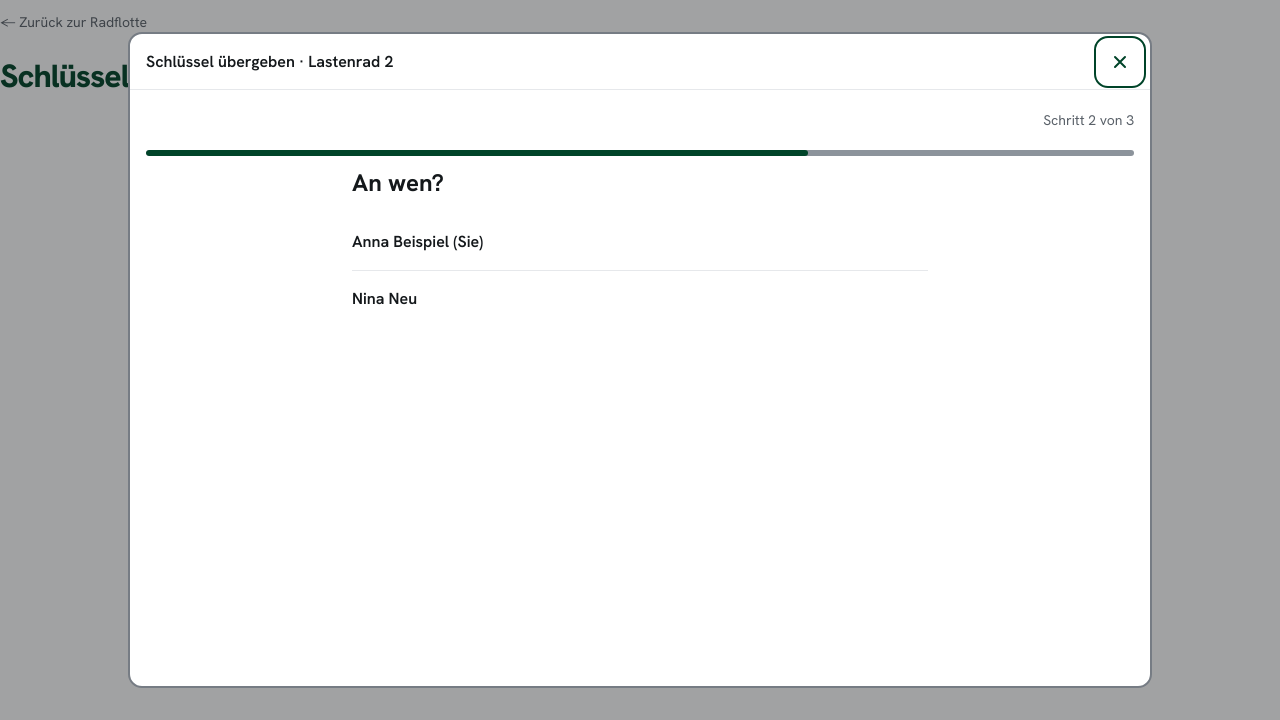
Test case: Schlüssel übergeben › sagt einen Fehler des Servers im Fuß und bleibt im Abschluss
Click the button "Nina Neu" at x=385, y=298, box x1=336 y1=271 x2=944 y2=327
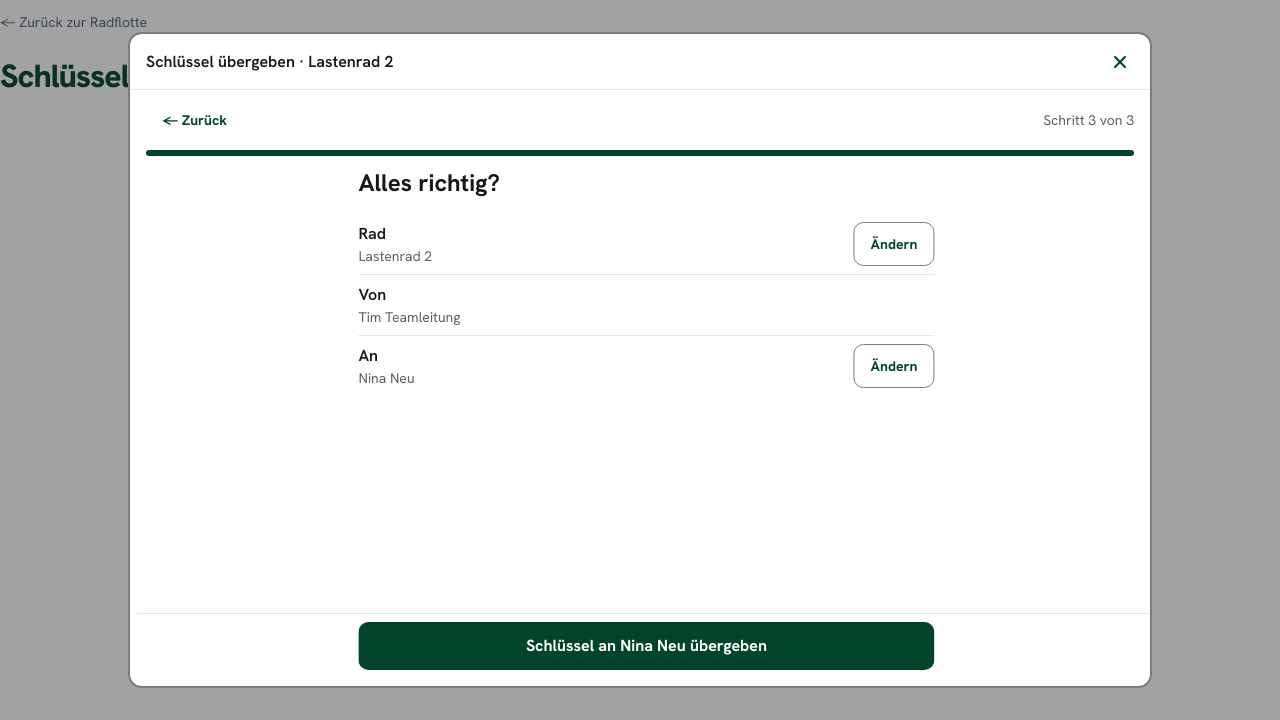
Click the button "Schlüssel an Nina Neu übergeben" at x=641, y=646, box x1=353 y1=622 x2=929 y2=670
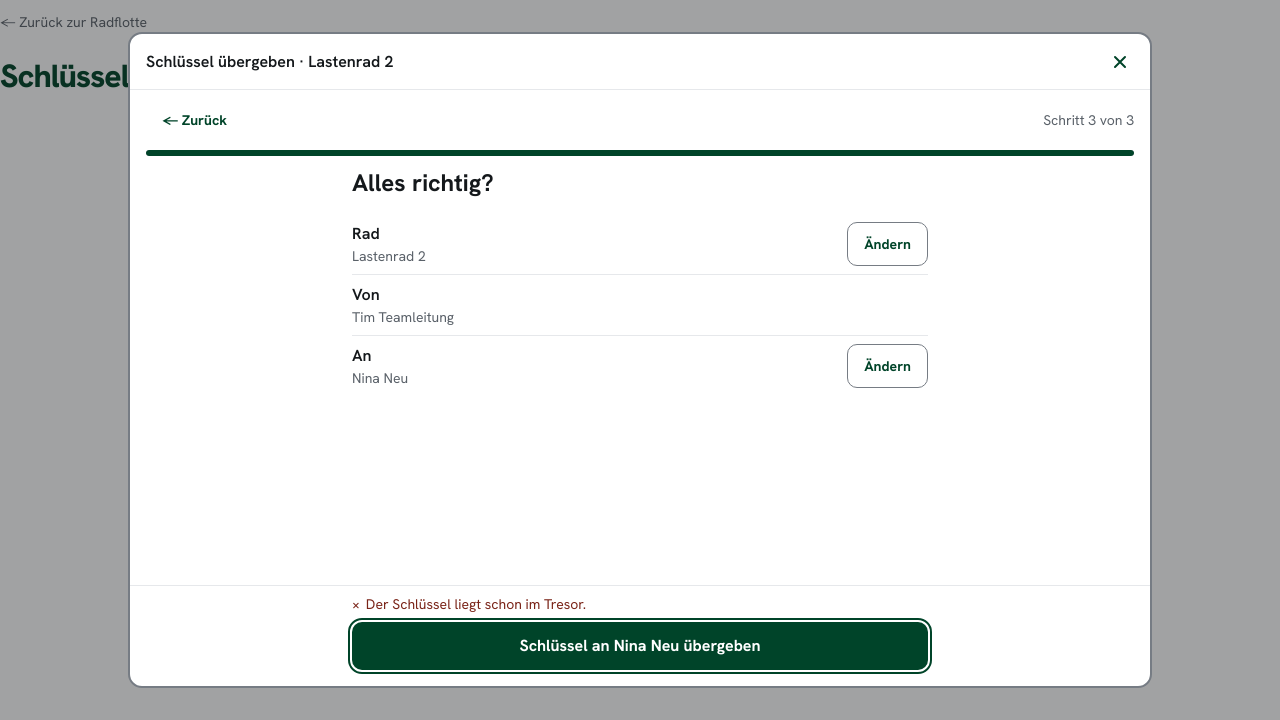
Check: the dialog "Alles richtig?" is shown
Check: the message shows "Der Schlüssel liegt schon im Tresor.", box x1=366 y1=595 x2=586 y2=613
